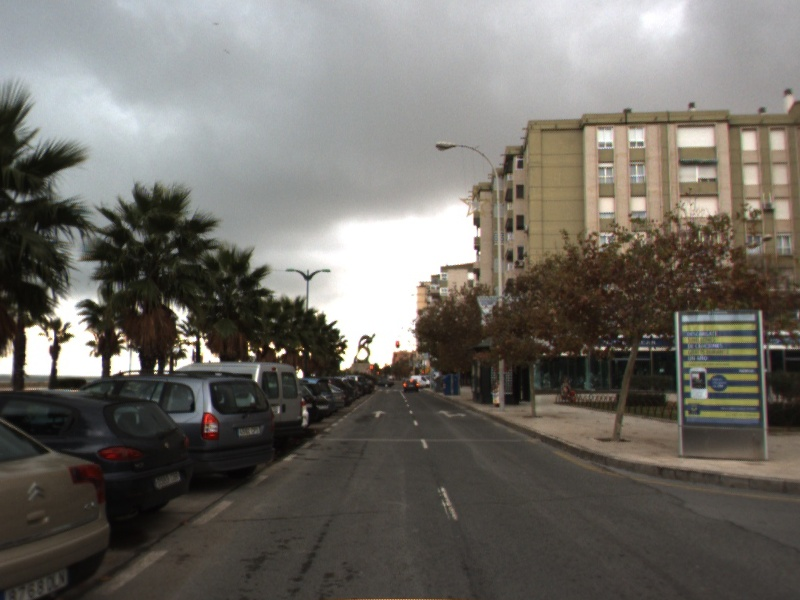STRAIGHT: (370, 409, 389, 419)
STRAIGHT_RIGHT: (436, 408, 469, 420)
